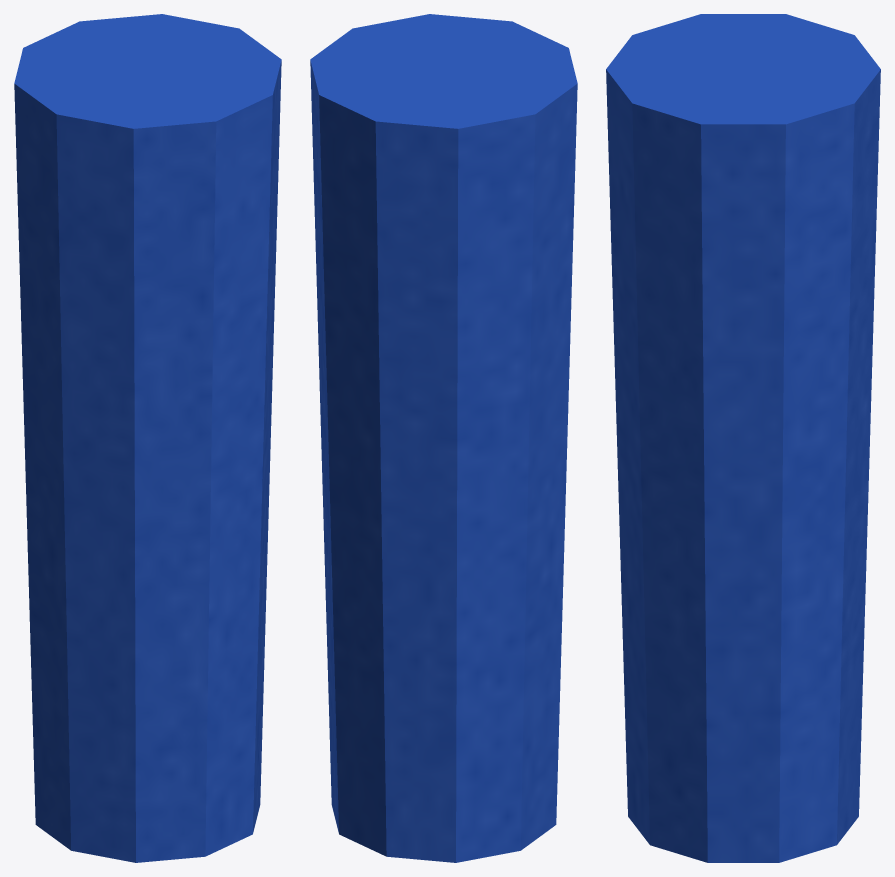
The model's file is JugA_Brazo.obj.
3 views of the same model, side by side, from view 1: azimuth 30°, elevation 25°; view 2: azimuth 150°, elevation 25°; view 3: azimuth 270°, elevation 25° (orthographic).
Size of the model in its own units: 0.0951 by 0.3 by 0.1.
1 material, 1 textured.
